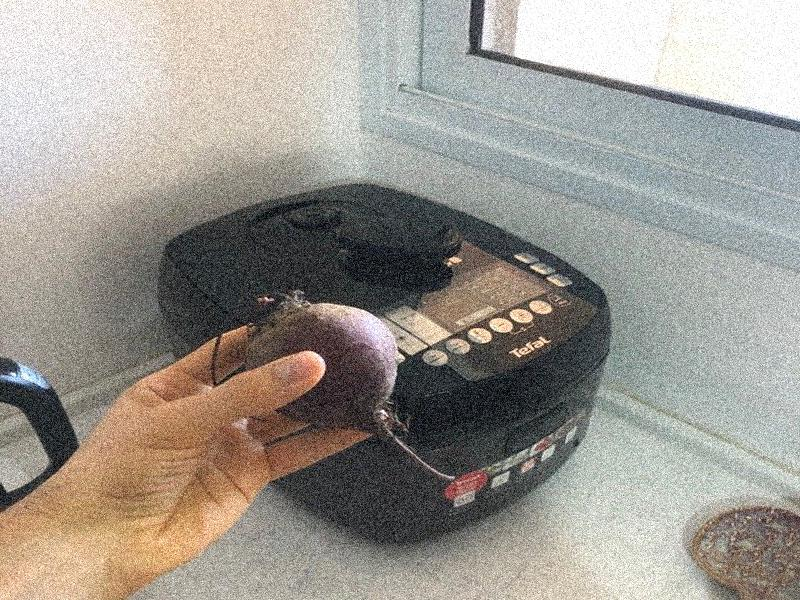Beet: (214, 290, 454, 483)
